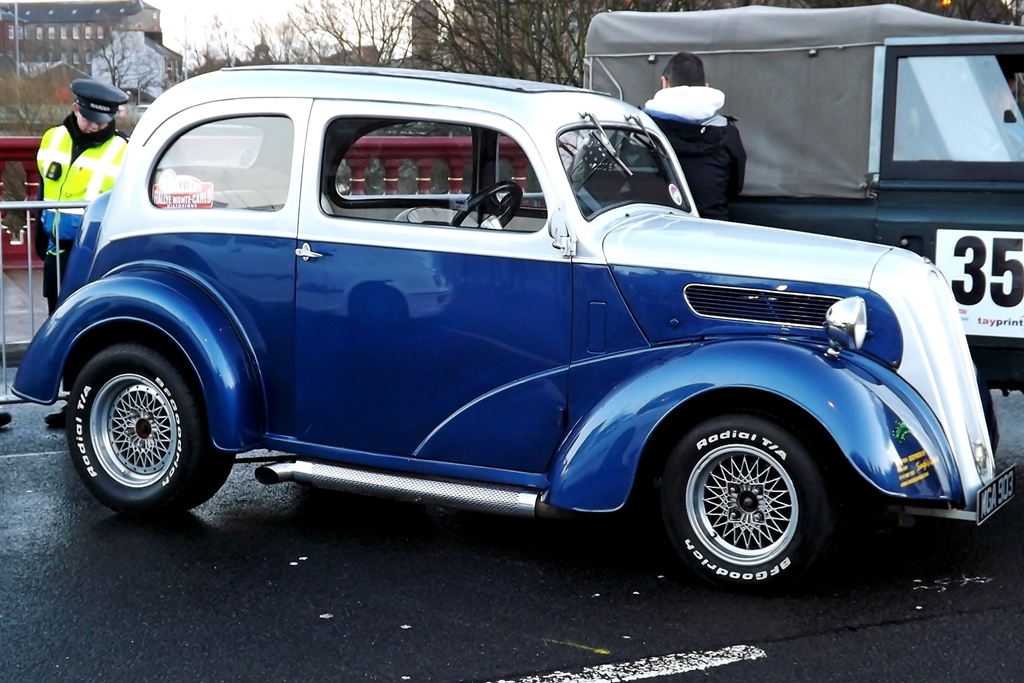Tree: (0, 0, 1024, 230)
